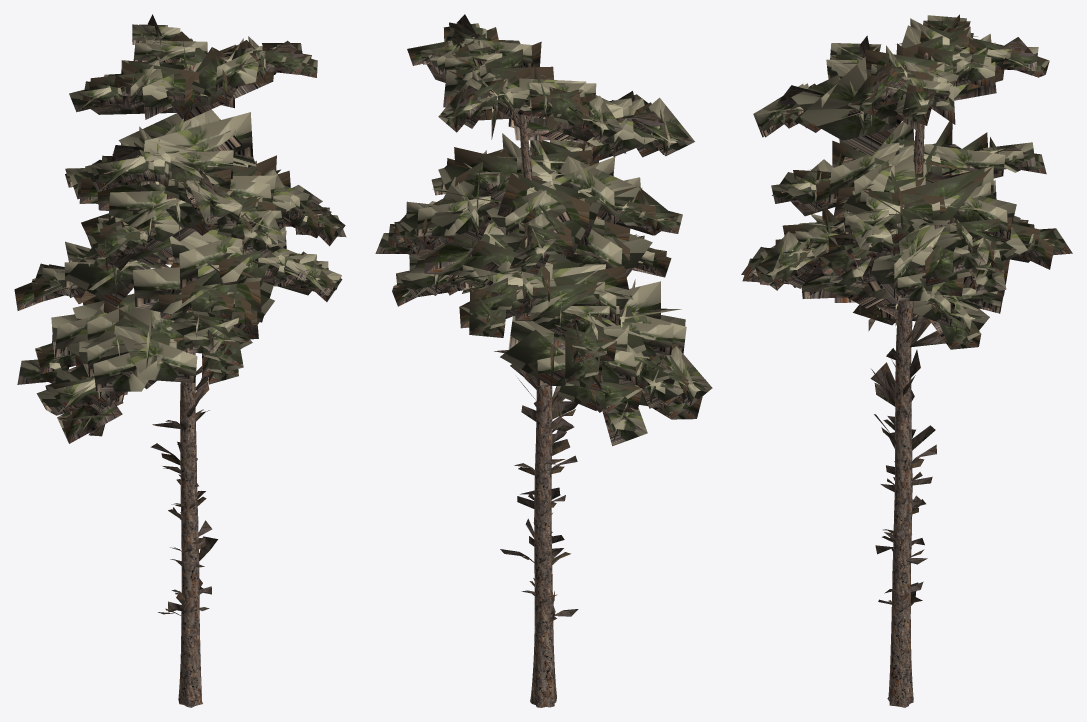
Rendered from Tree_09.fbx.
3 views of the same model, side by side, from view 1: azimuth 30°, elevation 25°; view 2: azimuth 150°, elevation 25°; view 3: azimuth 270°, elevation 25° (orthographic). The views are drawn at different scales.
Visible parts, largest first — view 1: LOD0; view 2: LOD0; view 3: LOD0.
Part boxes in pixels (x1,y1,x2,y2): LOD0: (14,14,346,707); LOD0: (375,14,712,707); LOD0: (741,14,1072,707).
Size of the model in its own units: 426 by 939 by 416.
